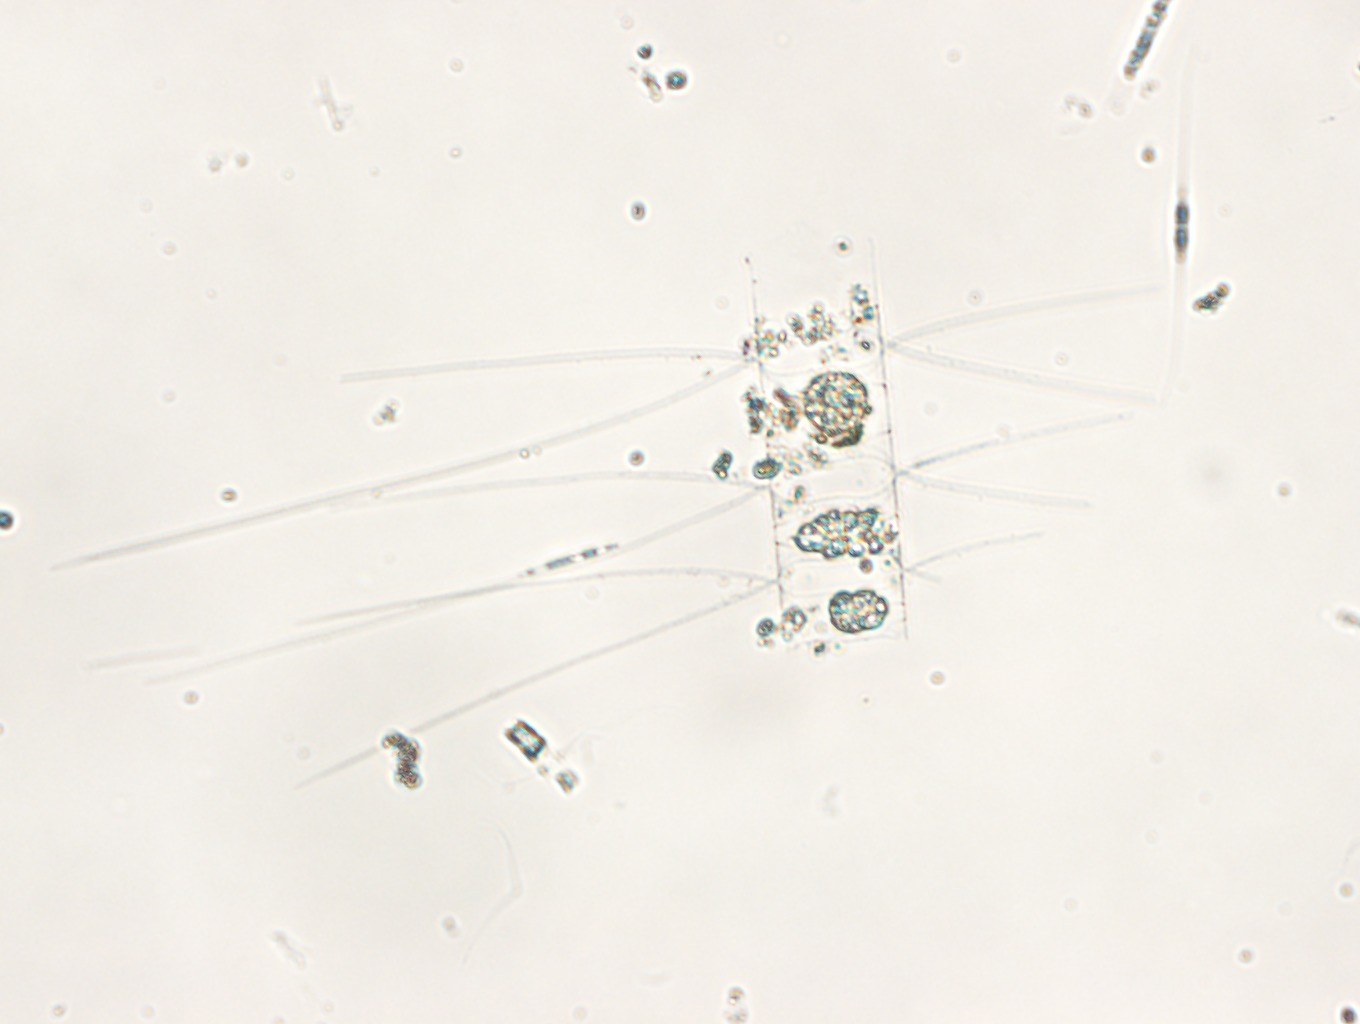chaetoceros: (52, 236, 1166, 793)
